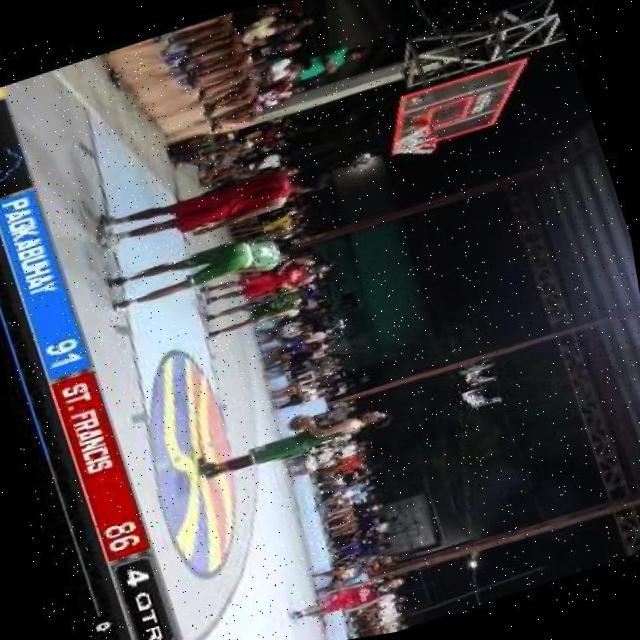ball: (281, 410, 319, 438)
hoop: (414, 117, 437, 155)
